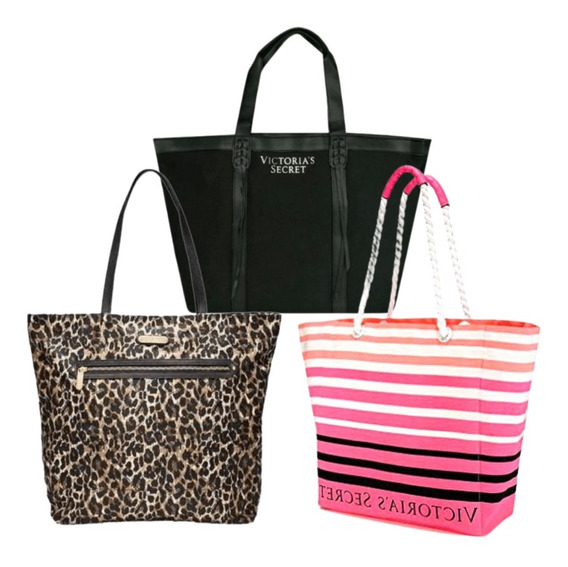cartera: (25, 169, 283, 527), (297, 166, 539, 539), (152, 27, 433, 315)
